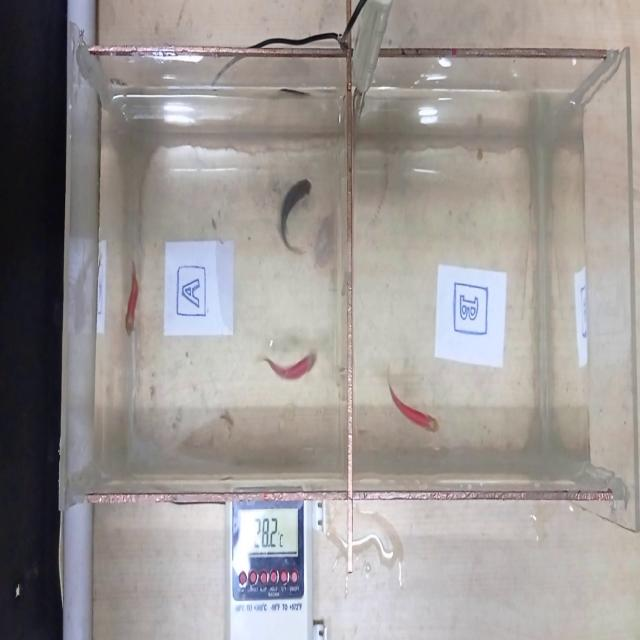Fish A1: (268, 168, 320, 266)
Fish A2: (118, 252, 147, 354)
Fish A3: (250, 334, 323, 394)
Fish B: (380, 356, 450, 444)
